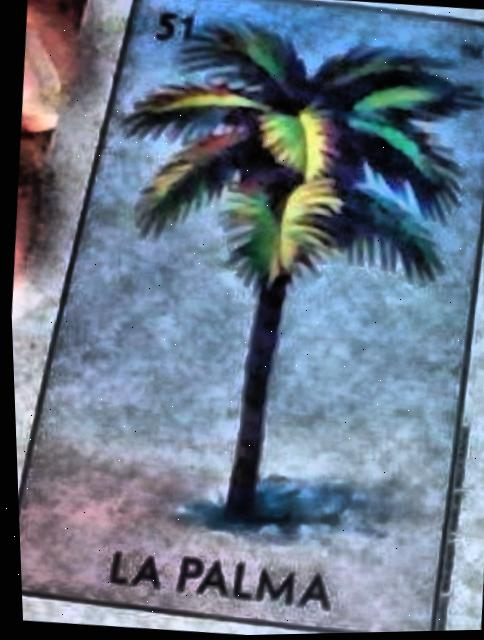La Palma: (15, 0, 484, 634)
